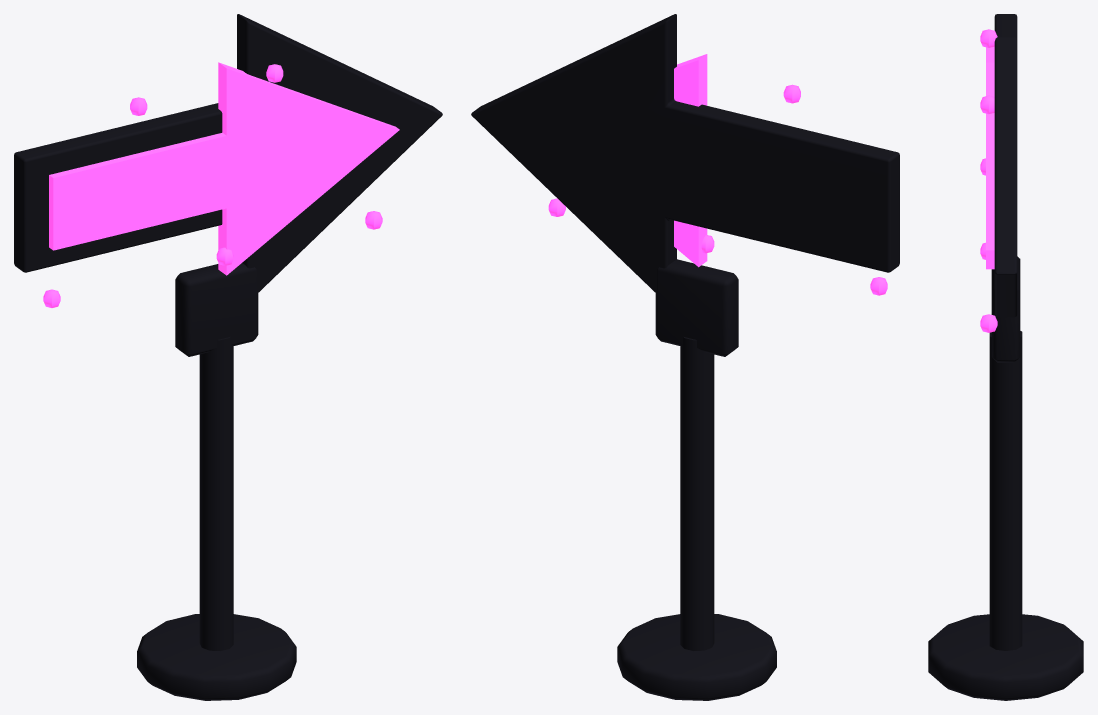
The model's file is neon_arrow_sign.glb.
3 renders of one model, left to right at view 1: azimuth 30°, elevation 25°; view 2: azimuth 150°, elevation 25°; view 3: azimuth 270°, elevation 25°, orthographic.
Parts seen in each view (by area): view 1: neon_arrow_sign; view 2: neon_arrow_sign; view 3: neon_arrow_sign.
Boxes of the visible parts, x1,y1,x2,y2 form: neon_arrow_sign: (14,14,442,700); neon_arrow_sign: (471,14,899,700); neon_arrow_sign: (928,14,1083,700).
Bounding box in the file's own units: 1.7 × 2.5 × 0.546.
